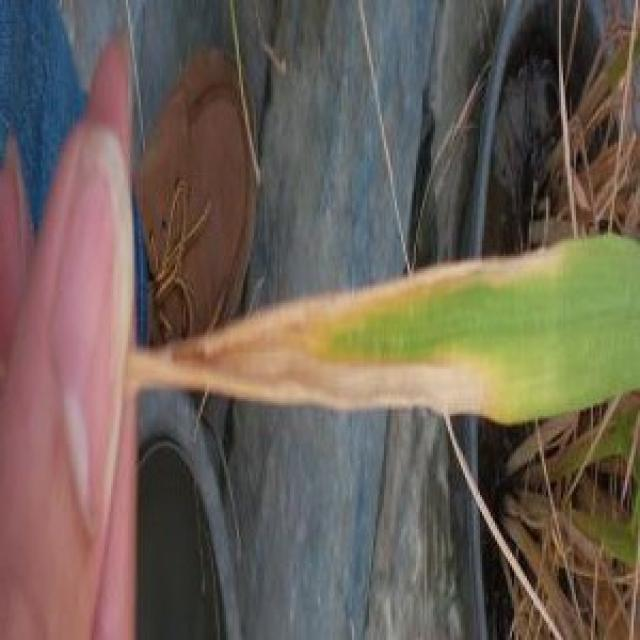Bacterial_Blight: (72, 223, 565, 509)
